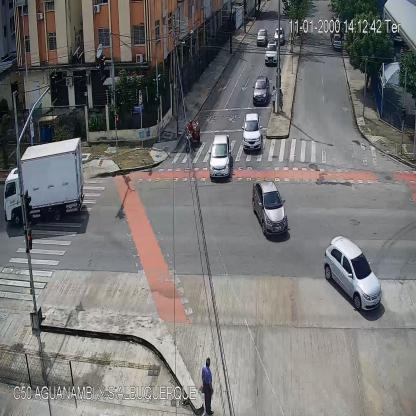car: (324, 236, 382, 310), (253, 180, 288, 239), (208, 135, 232, 180), (242, 114, 262, 151), (253, 76, 270, 103), (256, 28, 267, 45), (332, 34, 342, 48), (275, 28, 284, 42)
motorbike: (186, 118, 194, 154)
person: (203, 358, 217, 416), (278, 87, 284, 116), (272, 86, 277, 113), (183, 95, 187, 120)
truck: (4, 137, 85, 225)
